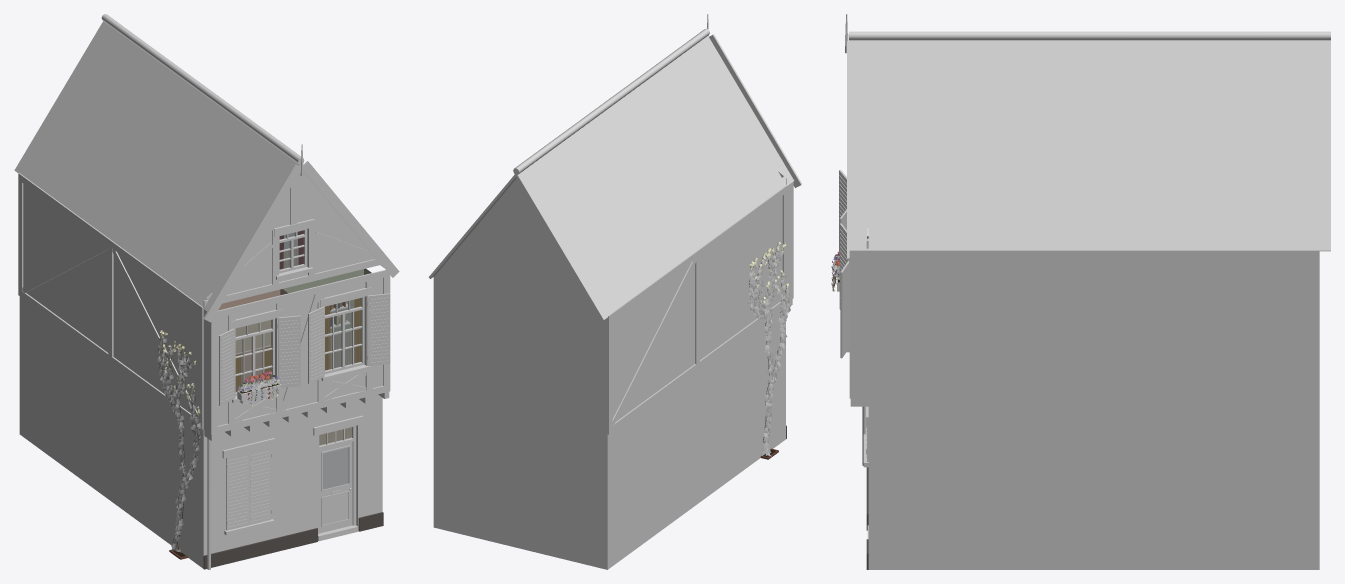
File: Opposite_Opposite1_3.glb
The picture shows the model from 3 angles, left to right: view 1: azimuth 30°, elevation 25°; view 2: azimuth 150°, elevation 25°; view 3: azimuth 270°, elevation 25°; orthographic projection. The views are drawn at different scales.
Parts seen in each view (by area): view 1: Opposite_Opposite1_3; view 2: Opposite_Opposite1_3; view 3: Opposite_Opposite1_3.
Boxes of the visible parts, <box> form: Opposite_Opposite1_3: <box>14,14,399,569</box>; Opposite_Opposite1_3: <box>428,14,802,569</box>; Opposite_Opposite1_3: <box>831,14,1330,569</box>.
Size of the model in its own units: 4.94 by 9.83 by 8.87.
